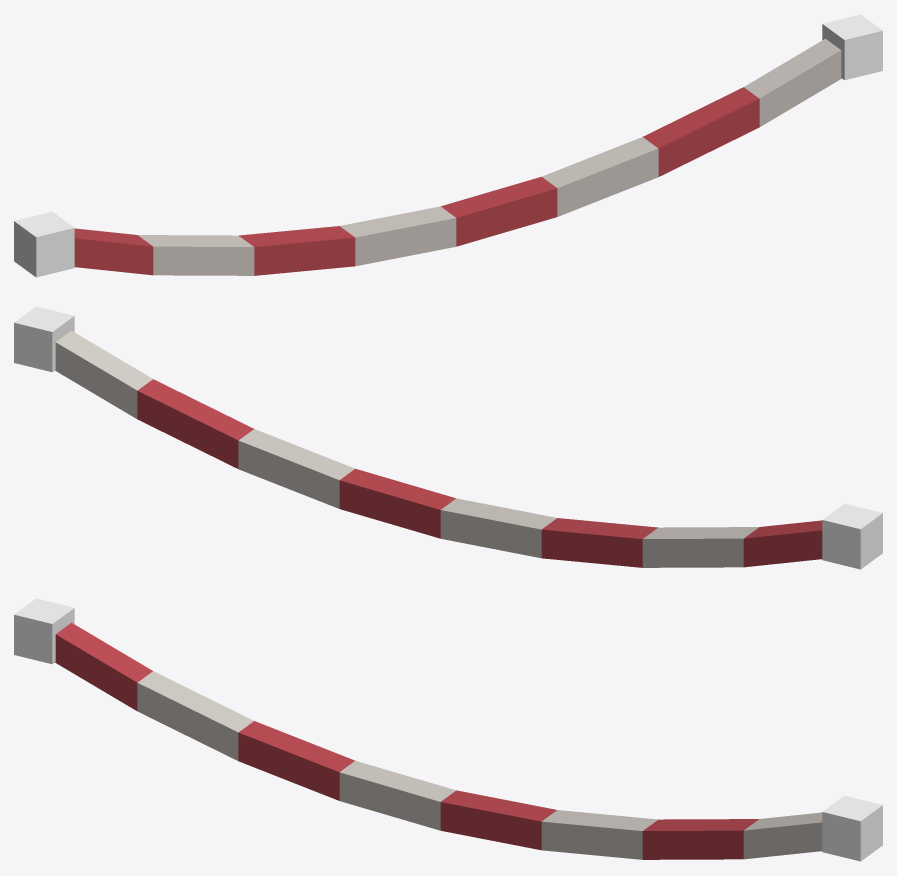
File: tier_gate_rope.glb
The picture shows the model from 3 angles, top to bottom: view 1: azimuth 30°, elevation 25°; view 2: azimuth 150°, elevation 25°; view 3: azimuth 330°, elevation 25°; orthographic projection.
Visible parts, largest first — view 1: TierGateRope; view 2: TierGateRope; view 3: TierGateRope.
Part boxes in pixels (bbox=[...]): TierGateRope: bbox=[14, 14, 882, 277]; TierGateRope: bbox=[14, 306, 882, 569]; TierGateRope: bbox=[14, 598, 882, 861].
Size of the model in its own units: 3.08 by 0.4 by 0.14.
